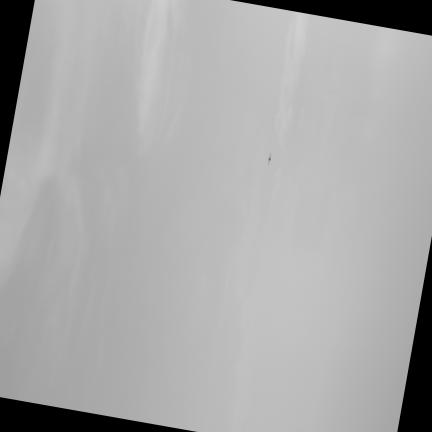Shahed: (268, 152, 271, 164)
